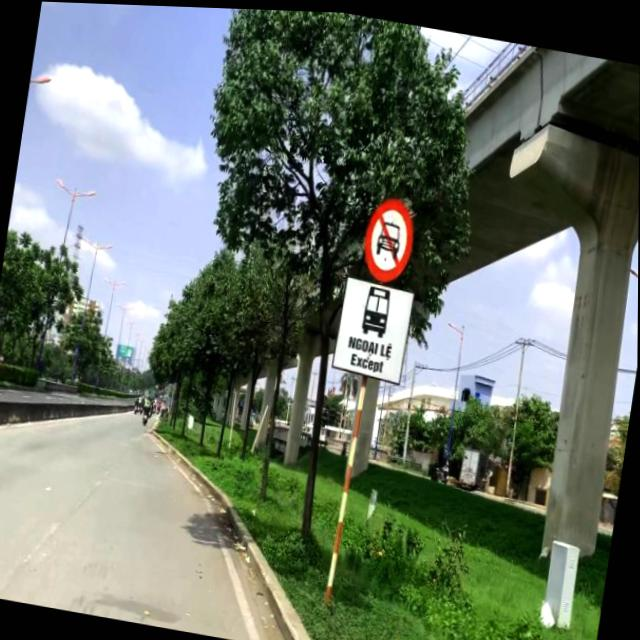Cam xe oto: (362, 192, 418, 283)
